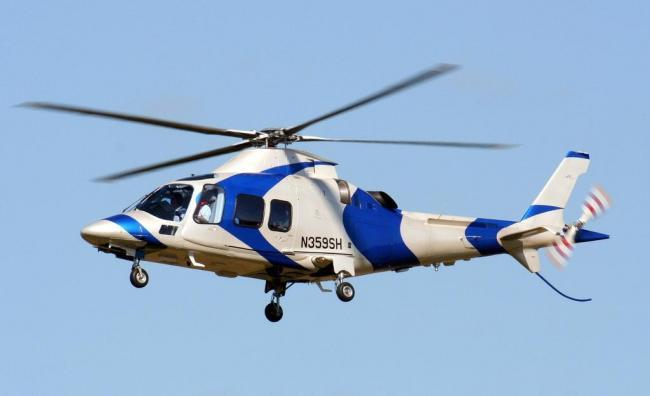airplane: (44, 65, 614, 307)
